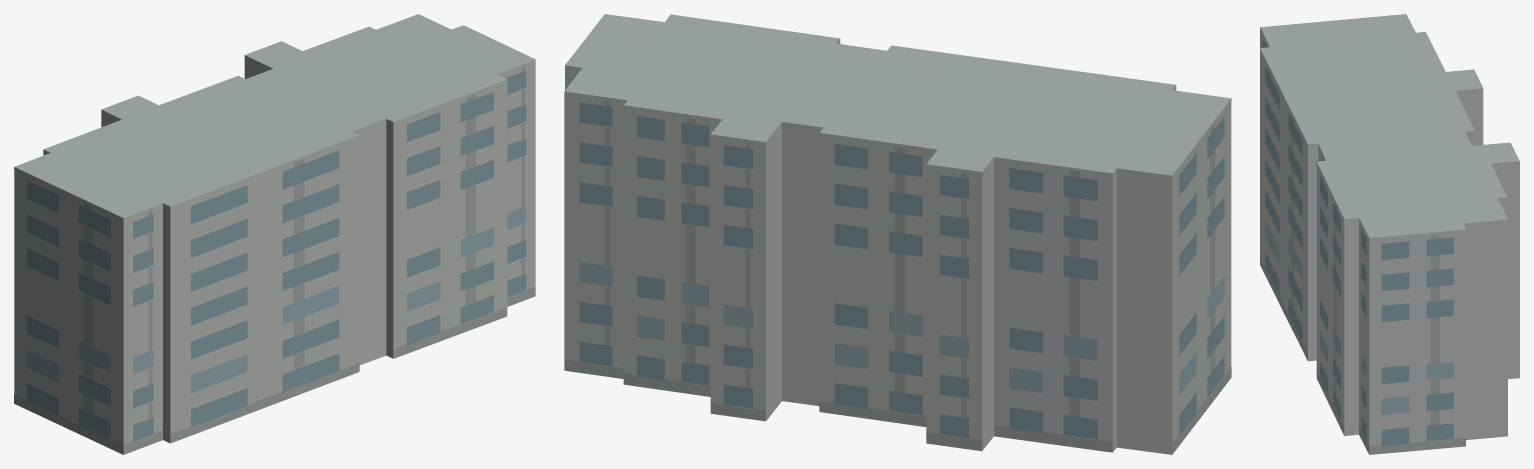
File: survey-upis-32835969.glb
3 views of the same model, side by side, from view 1: azimuth 30°, elevation 25°; view 2: azimuth 150°, elevation 25°; view 3: azimuth 270°, elevation 25° (orthographic). The views are drawn at different scales.
Parts seen in each view (by area): view 1: survey-upis-32835969.tmp; view 2: survey-upis-32835969.tmp; view 3: survey-upis-32835969.tmp.
Boxes of the visible parts, x1=… form: survey-upis-32835969.tmp: x1=14, y1=14, x2=535, y2=454; survey-upis-32835969.tmp: x1=564, y1=14, x2=1231, y2=454; survey-upis-32835969.tmp: x1=1260, y1=14, x2=1519, y2=454.
Bounding box in the file's own units: 47.11 × 21.26 × 23.08.
